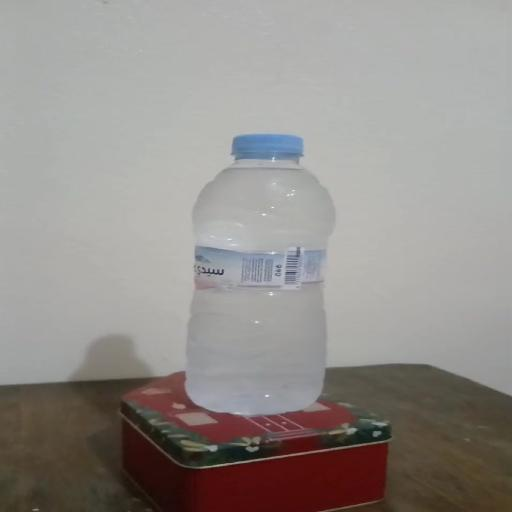bouteille conformite: (178, 116, 334, 460)
